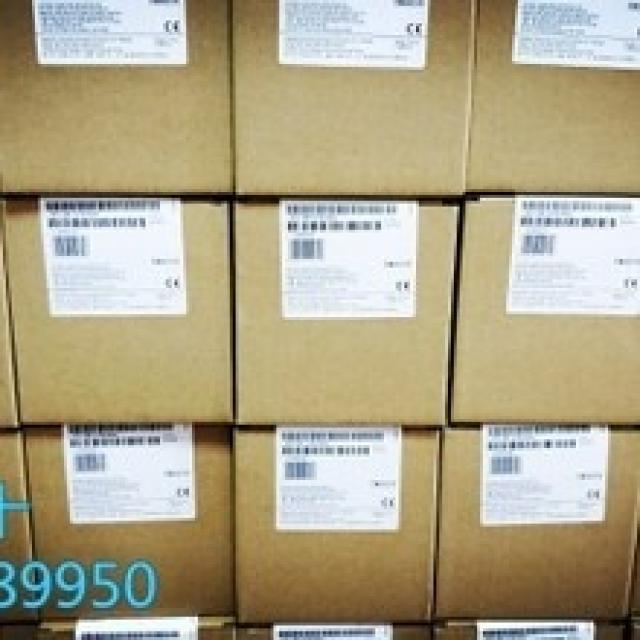box: (3, 200, 233, 428), (232, 200, 458, 432), (233, 1, 477, 200), (0, 1, 234, 200), (449, 195, 637, 425), (431, 422, 637, 619), (235, 430, 441, 624), (23, 429, 232, 620), (470, 0, 637, 195), (0, 431, 35, 620), (38, 618, 232, 637), (0, 259, 21, 432), (433, 620, 625, 637), (233, 624, 431, 637)
